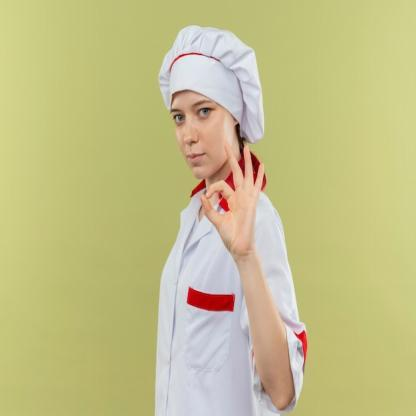ok: (200, 138, 266, 262)
